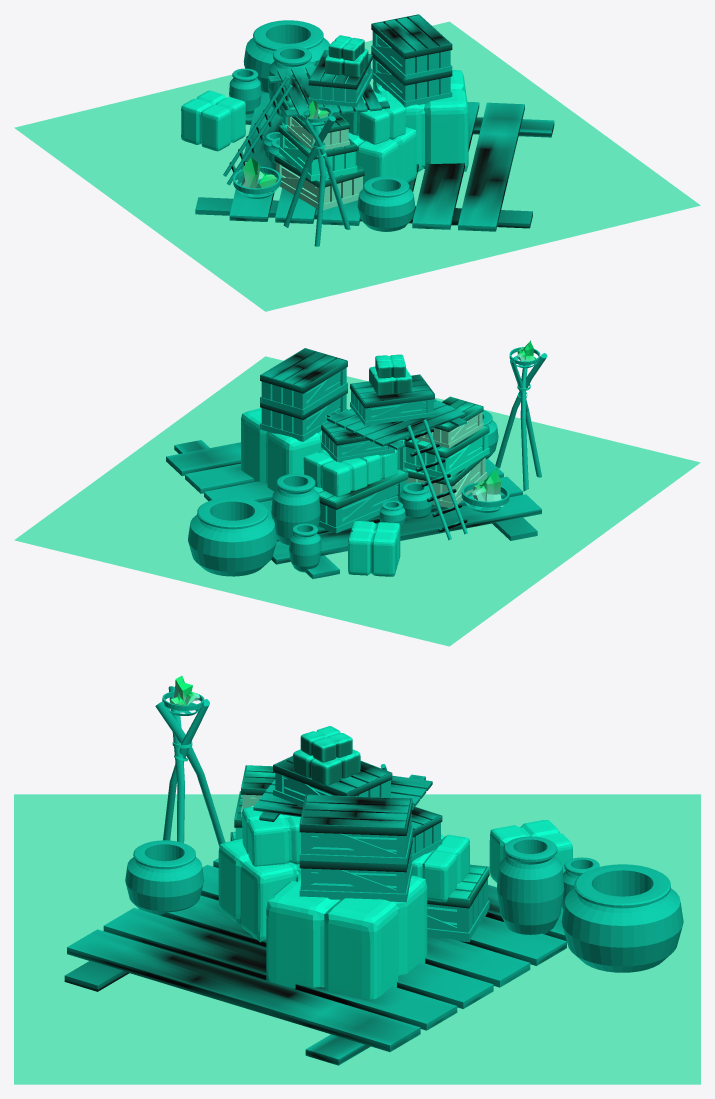
File: baggage_green.fbx
3 views of the same model, one above another, from view 1: azimuth 30°, elevation 25°; view 2: azimuth 150°, elevation 25°; view 3: azimuth 270°, elevation 25° (orthographic). The views are drawn at different scales.
Parts seen in each view (by area): view 1: Plane, Cube.059, Cube.028, Cube.027, Cylinder.028, Cylinder.026, Cube.030, Cube.117, Cylinder.036, Cube.072, Cube.029, Cube.118 (+16 smaller); view 2: Plane, Cube.059, Cylinder.028, Cube.028, Cube.027, Cylinder.029, Cube.072, Cube.117, Cube.114, Cylinder.036, Cube.118, Cube.107 (+21 smaller); view 3: Plane, Cube.059, Cube.028, Cylinder.028, Cylinder.029, Cylinder.026, Cube.030, Cube.117, Cube.112, Cube.118, Cylinder.036, Cube.029 (+13 smaller).
Boxes of the visible parts, x1,y1,x2,y2 form: Plane: (14,21,700,311); Cube.059: (195,93,554,231); Cube.028: (373,70,468,172); Cube.027: (181,90,245,151); Cylinder.028: (243,20,329,93); Cylinder.026: (357,176,415,231); Cube.030: (348,127,416,188); Cube.117: (371,14,452,59); Cylinder.036: (283,116,350,246); Cube.072: (268,66,389,117); Cube.029: (339,91,405,144); Cube.118: (371,19,452,80); Plane: (14,356,700,646); Cube.059: (166,440,541,578); Cylinder.028: (188,497,276,576); Cube.028: (241,407,323,491); Cube.027: (348,521,400,576); Cylinder.029: (271,473,320,544); Cube.072: (327,399,466,449); Cube.117: (260,348,347,393); Cube.114: (303,449,367,496); Cylinder.036: (495,353,547,491); Cube.118: (260,367,347,415); Cube.107: (318,480,406,533); Plane: (14,794,700,1084); Cube.059: (64,858,566,1065); Cube.028: (266,872,427,999); Cylinder.028: (561,864,683,972); Cylinder.029: (497,836,564,934); Cylinder.026: (125,840,204,915); Cube.030: (218,838,300,942); Cube.117: (299,794,412,835); Cube.112: (299,848,412,902); Cube.118: (299,812,412,864); Cylinder.036: (155,686,225,846); Cube.029: (242,807,300,866).
Size of the model in its own units: 1000 by 311 by 1000.
